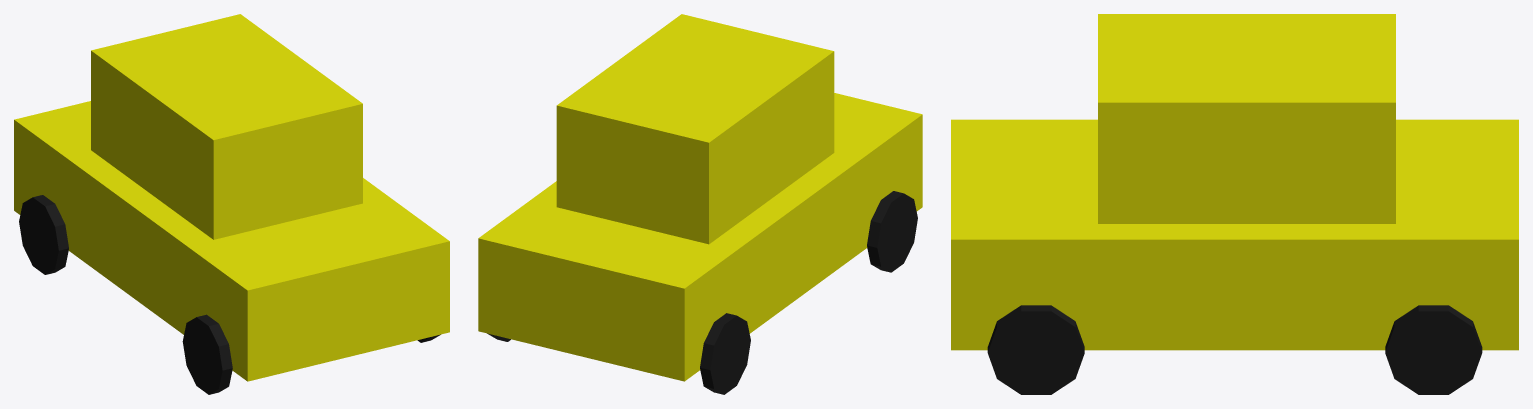
The model's file is Car 10.fbx.
3 views of the same model, side by side, from view 1: azimuth 30°, elevation 25°; view 2: azimuth 150°, elevation 25°; view 3: azimuth 270°, elevation 25° (orthographic). The views are drawn at different scales.
Parts seen in each view (by area): view 1: Car, Front Right Tire, Back Right Tire; view 2: Car, Front Right Tire, Back Right Tire; view 3: Car, Back Left Tire, Front Left Tire.
Boxes of the visible parts, x1,y1,x2,y2 form: Car: [14, 14, 449, 381]; Front Right Tire: [182, 314, 232, 394]; Back Right Tire: [19, 195, 68, 274]; Car: [478, 14, 922, 381]; Front Right Tire: [867, 191, 917, 272]; Back Right Tire: [700, 313, 750, 394]; Car: [951, 14, 1518, 350]; Back Left Tire: [1385, 305, 1482, 394]; Front Left Tire: [987, 305, 1084, 394].
Size of the model in its own units: 220 by 210 by 400.
